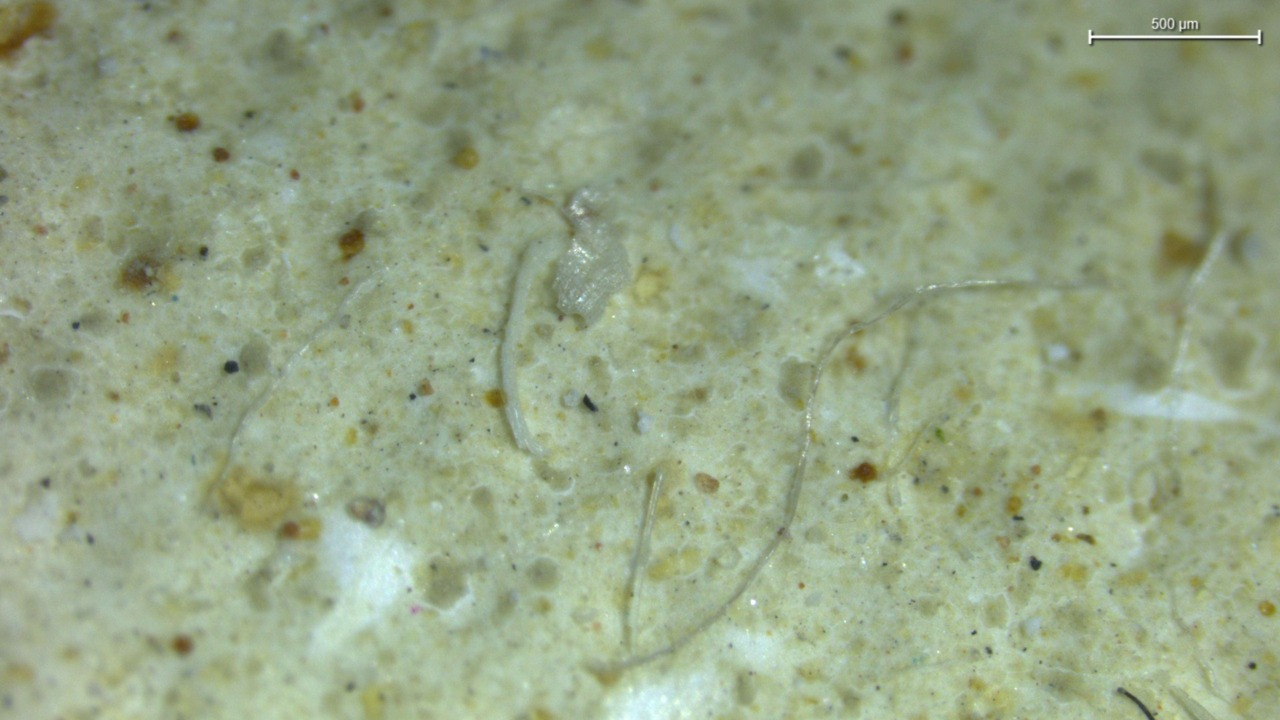microplastic_fragment: (553, 190, 632, 325)
